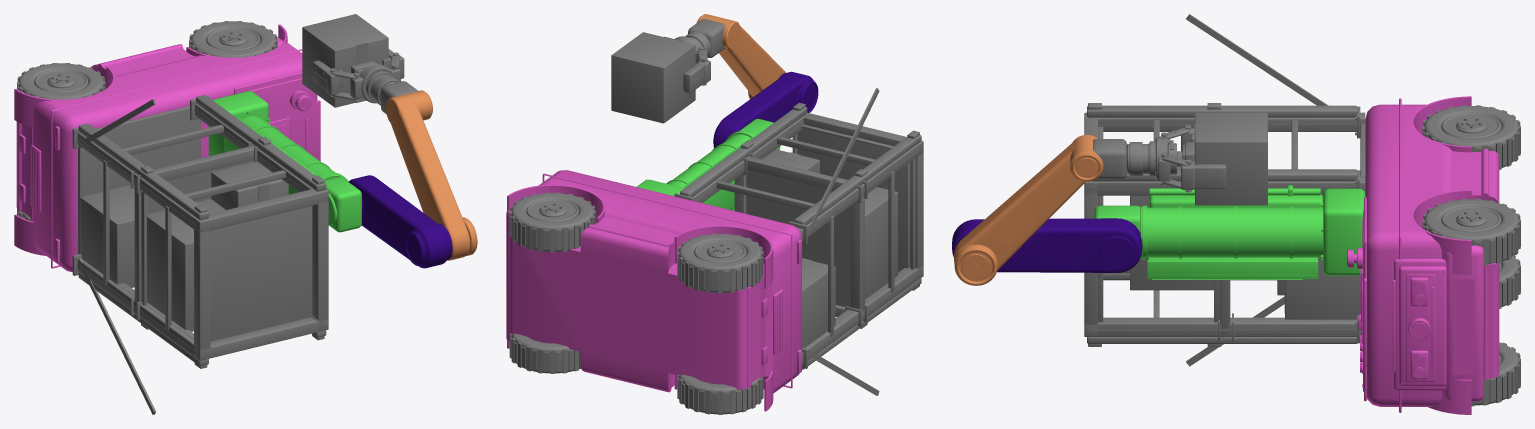
The picture shows the model from 3 angles, left to right: view 1: azimuth 30°, elevation 25°; view 2: azimuth 150°, elevation 25°; view 3: azimuth 270°, elevation 25°; orthographic projection. The views are drawn at different scales.
Visible parts, largest first — view 1: AX1_Shelf, AX1_Body, Arm_04_Forearm, Arm_03_UpperArm, AX1_Box_01, AX1_Box_03, AX1_Box_05, Arm_01_Fixed, AX1_Tire_04, AX1_Tire_02, AX1_Box_02, Arm_02_Movie (+3 smaller); view 2: AX1_Body, AX1_Shelf, AX1_Box_01, AX1_Tire_04, AX1_Tire_02, Arm_03_UpperArm, AX1_Box_03, Arm_04_Forearm, AX1_Tire_03, AX1_Box_05, Arm_01_Fixed, AX1_Tire_01 (+4 smaller); view 3: AX1_Body, AX1_Shelf, Arm_01_Fixed, Arm_04_Forearm, Arm_03_UpperArm, AX1_Box_01, AX1_Tire_02, AX1_Tire_04, AX1_Box_04, Gripper_WristHousing, AX1_Tire_01, AX1_Box_03 (+6 smaller).
Part boxes in pixels (x1,y1,x2,y2): AX1_Shelf: [72, 95, 328, 414]; AX1_Body: [14, 24, 320, 271]; Arm_04_Forearm: [385, 90, 477, 260]; Arm_03_UpperArm: [348, 175, 452, 268]; AX1_Box_01: [302, 14, 388, 107]; AX1_Box_03: [147, 199, 225, 329]; AX1_Box_05: [80, 185, 134, 287]; Arm_01_Fixed: [208, 91, 334, 194]; AX1_Tire_04: [17, 63, 105, 99]; AX1_Tire_02: [189, 21, 277, 57]; AX1_Box_02: [211, 162, 288, 209]; Arm_02_Movie: [320, 172, 361, 232]; AX1_Body: [506, 170, 801, 411]; AX1_Shelf: [674, 88, 923, 395]; AX1_Box_01: [611, 32, 695, 123]; AX1_Tire_04: [677, 233, 763, 293]; AX1_Tire_02: [509, 192, 595, 252]; Arm_03_UpperArm: [713, 71, 818, 148]; AX1_Box_03: [837, 177, 897, 299]; Arm_04_Forearm: [696, 14, 786, 98]; AX1_Tire_03: [677, 374, 763, 414]; AX1_Box_05: [802, 258, 835, 347]; Arm_01_Fixed: [636, 134, 754, 210]; AX1_Tire_01: [509, 333, 580, 373]; AX1_Body: [1347, 96, 1499, 414]; AX1_Shelf: [1084, 14, 1365, 366]; Arm_01_Fixed: [1147, 185, 1365, 279]; Arm_04_Forearm: [954, 135, 1103, 285]; Arm_03_UpperArm: [952, 218, 1142, 272]; AX1_Box_01: [1194, 112, 1267, 205]; AX1_Tire_02: [1422, 198, 1520, 265]; AX1_Tire_04: [1422, 105, 1520, 169]; AX1_Box_04: [1284, 257, 1360, 319]; Gripper_WristHousing: [1093, 139, 1155, 179]; AX1_Tire_01: [1471, 342, 1520, 406]; AX1_Box_03: [1130, 195, 1213, 290].
Bounding box in the file's own units: 1386 × 1553 × 2262.
